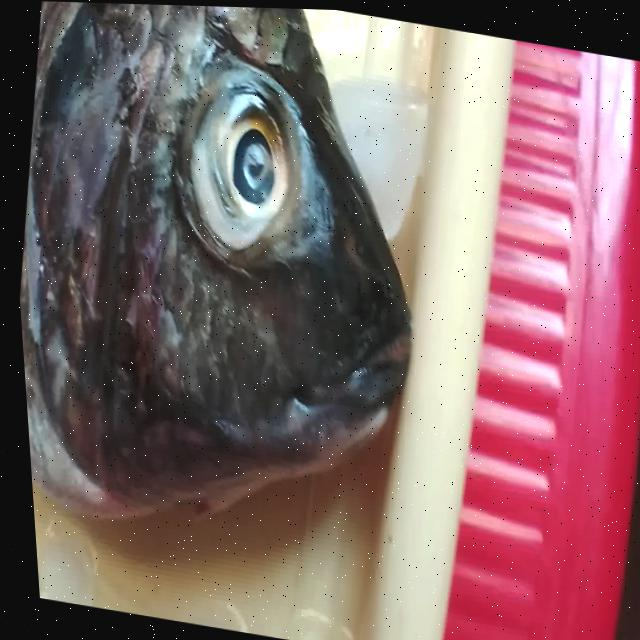Fresh: (151, 44, 330, 301)
